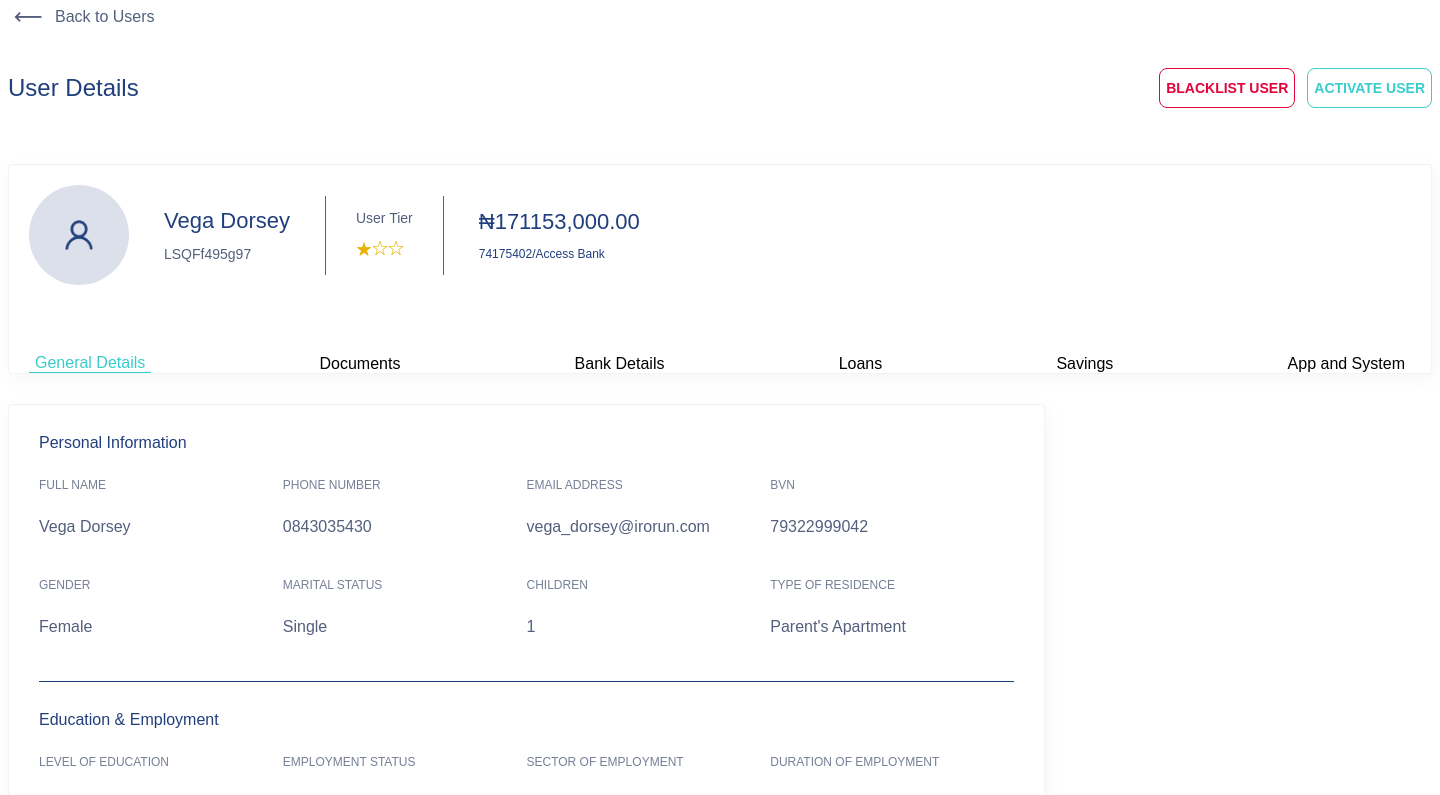
Test: UserDetails › shows exclude section message for non-General Details nav (negative scenario)
# Click on "Documents" nav button
Click the button "Documents". click: (360, 364)
box: [314, 354, 406, 373]
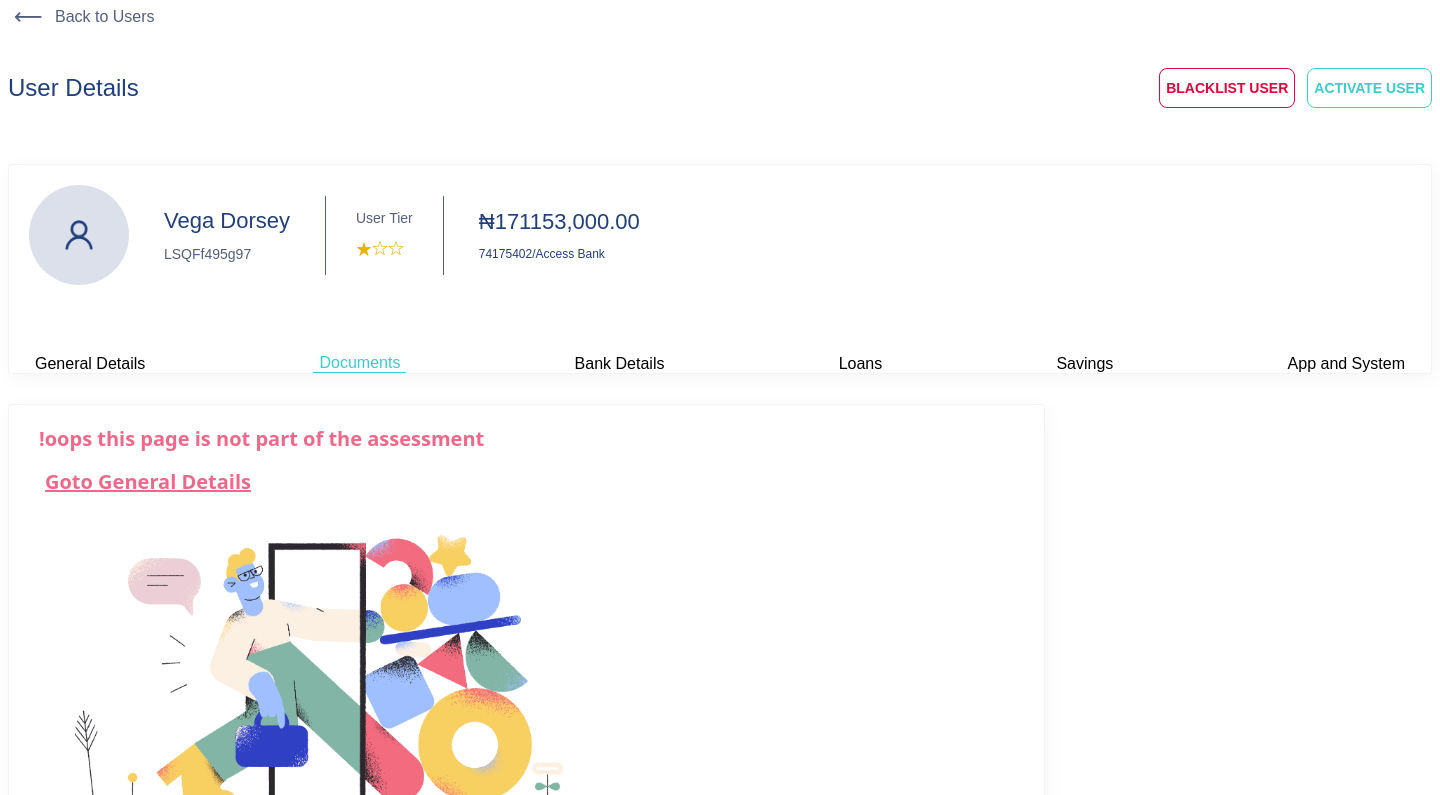
Expected: the text "!oops this page is not part of the assessment" is shown, [39, 425, 484, 452]
Expected: the button "Goto General Details" is shown
Click the button "Goto General Details". click: (148, 482)
box: [39, 467, 257, 496]
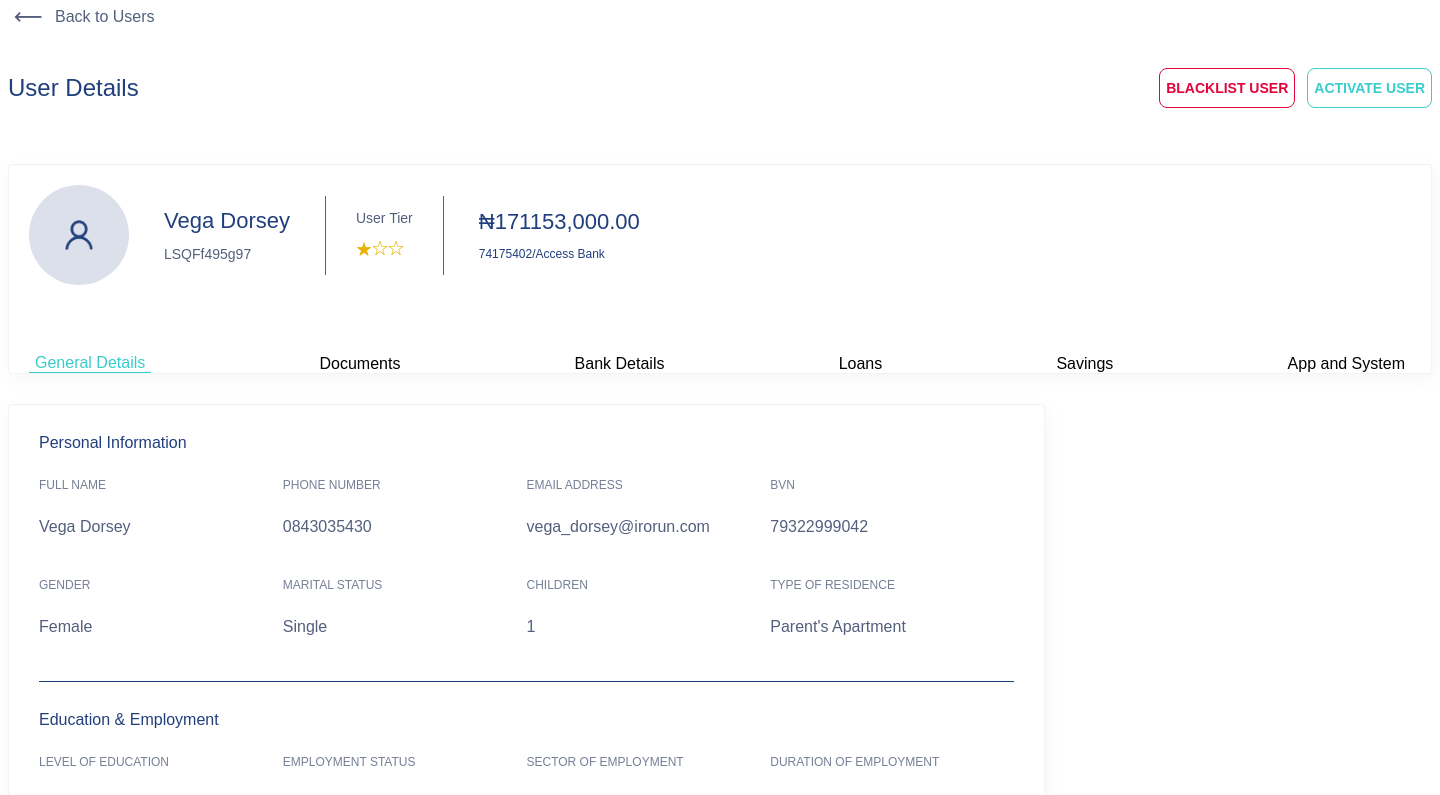
Expected: the heading "Personal Information" is shown, [39, 434, 187, 451]
